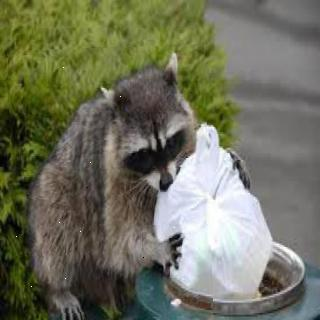raccoon: (10, 45, 211, 320)
